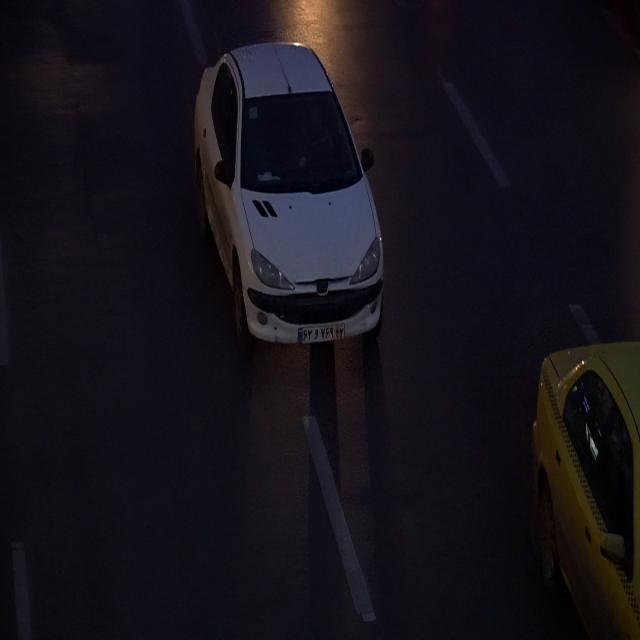car: (192, 35, 386, 362), (527, 338, 640, 640)
